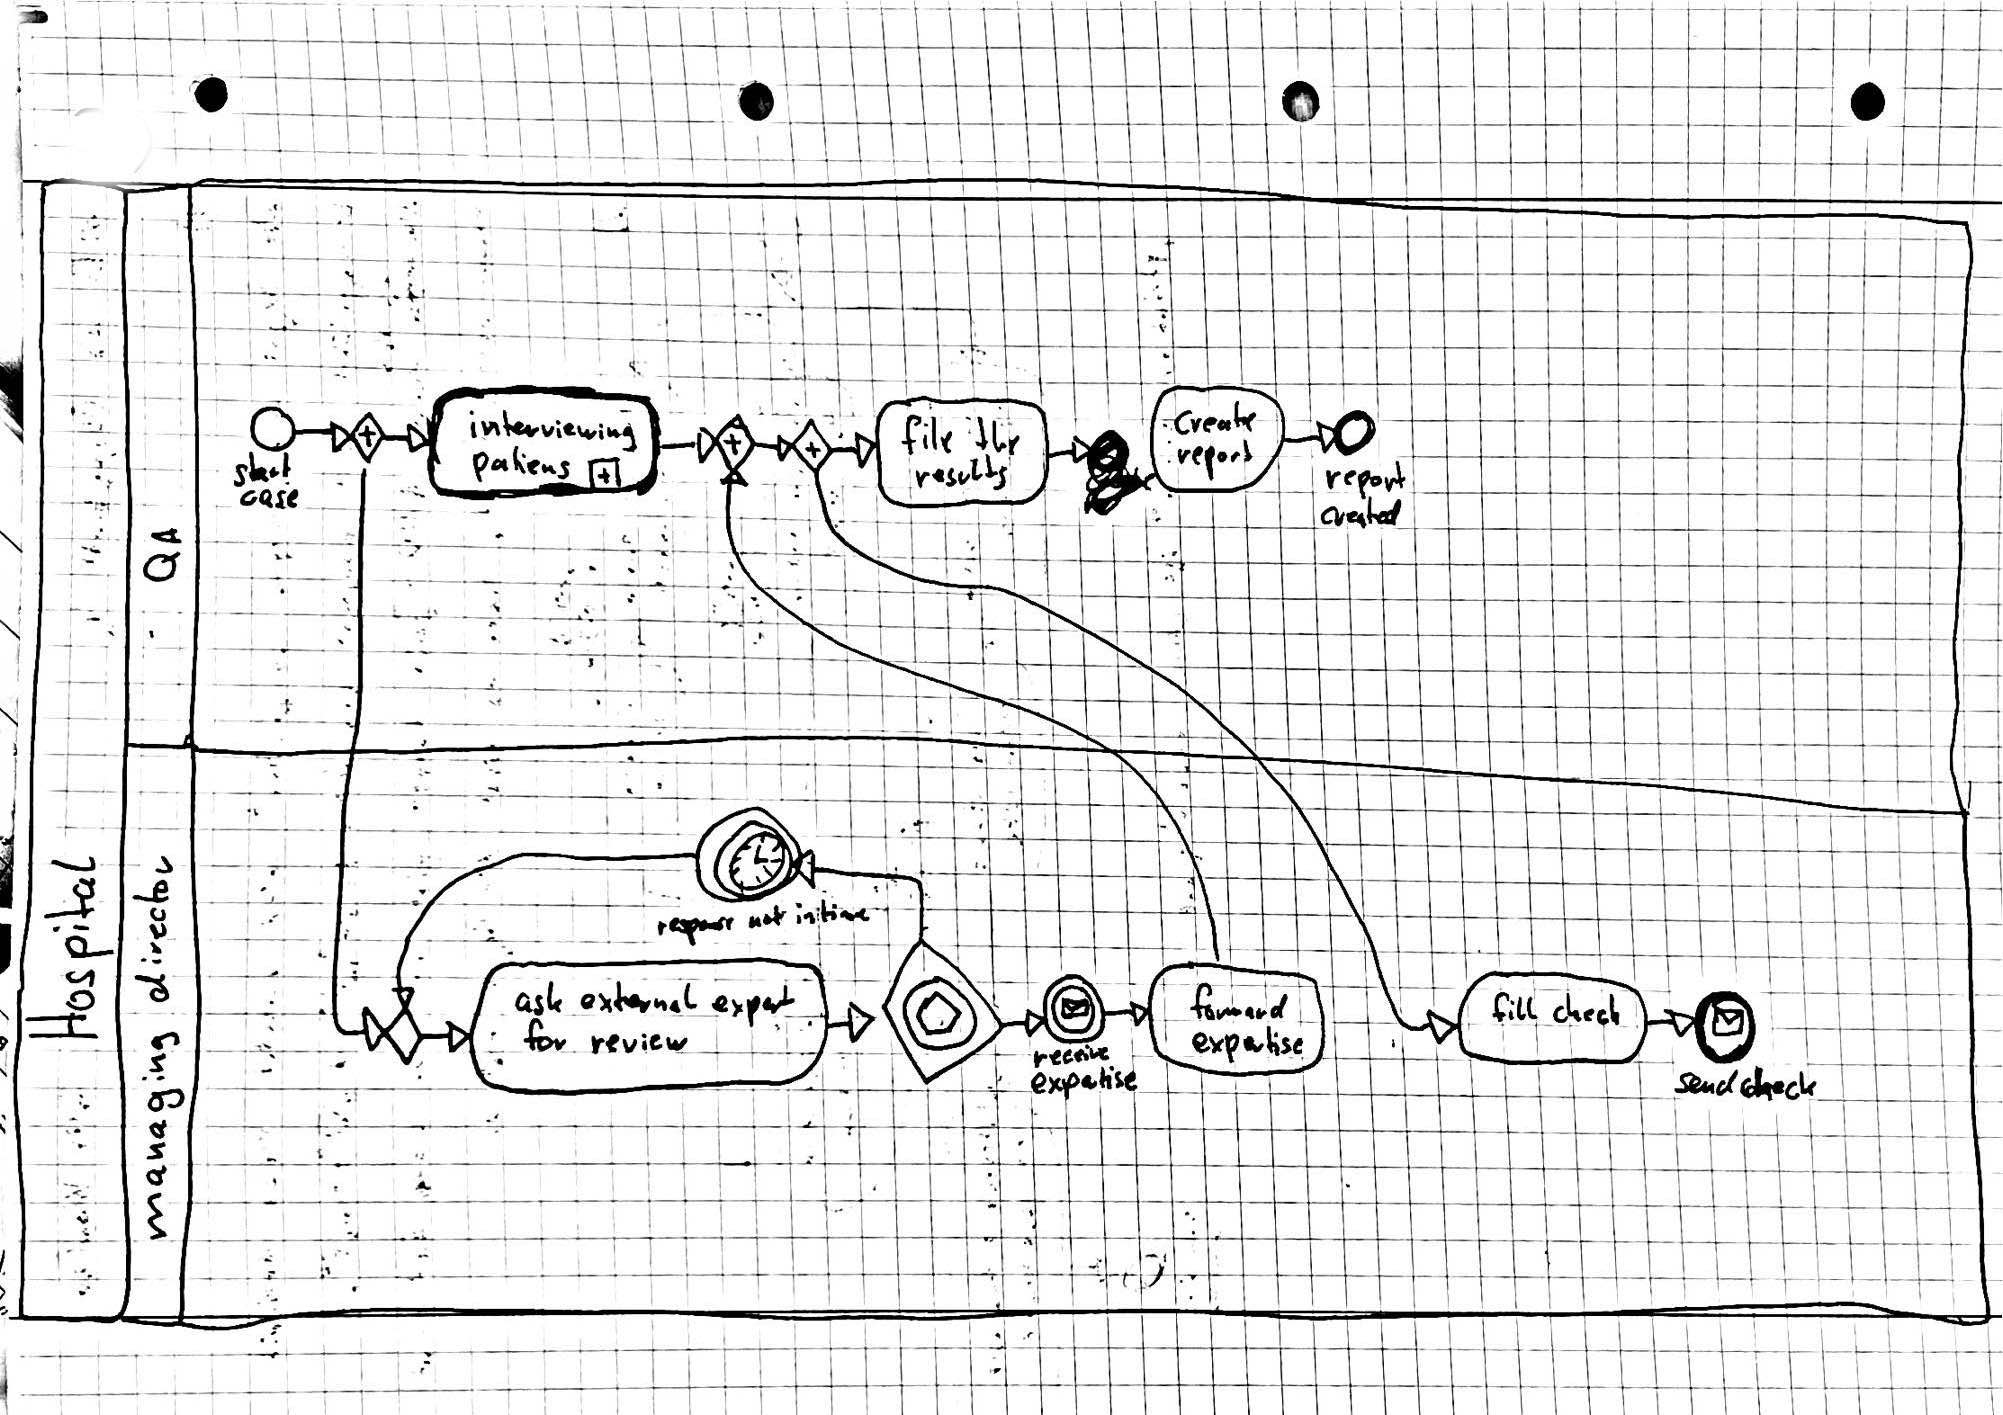Create: (1168, 397, 1262, 441)
Hospital: (15, 847, 126, 1049)
QA: (136, 521, 188, 590)
ask: (507, 974, 570, 1021)
case: (233, 482, 306, 515)
check: (1733, 1061, 1824, 1109), (1547, 986, 1626, 1034)
created: (1314, 489, 1407, 536)
director: (124, 848, 179, 1011)
expert: (706, 979, 801, 1034)
expertise: (1184, 1020, 1309, 1069), (1023, 1060, 1144, 1107)
external: (574, 975, 704, 1018)
file: (896, 409, 962, 462)
fill: (1485, 986, 1545, 1029)
for: (518, 1012, 573, 1058)
forward: (1184, 977, 1296, 1026)
in: (789, 896, 819, 933)
interviewing: (462, 403, 643, 461)
managing: (135, 1024, 191, 1250)
not: (743, 899, 792, 936)
patiens: (464, 438, 577, 490)
receive: (1024, 1038, 1115, 1077)
report: (1318, 453, 1413, 505), (1171, 432, 1259, 487)
response: (649, 908, 741, 953)
results: (908, 447, 1014, 498)
review: (583, 1028, 694, 1061)
send: (1669, 1061, 1746, 1101)
start: (227, 444, 299, 493)
the: (966, 409, 1028, 464)
time: (815, 893, 877, 930)
